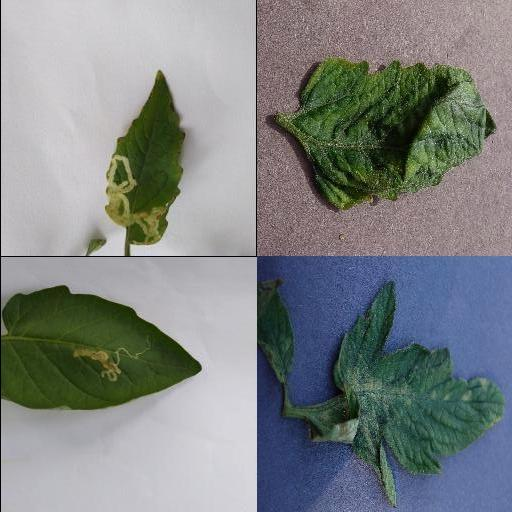Leaf Miner: (0, 283, 201, 411), (101, 72, 187, 246)
Leaf Mold: (309, 282, 505, 510)
Yellow Leaf Curl Virus: (298, 60, 494, 214)
